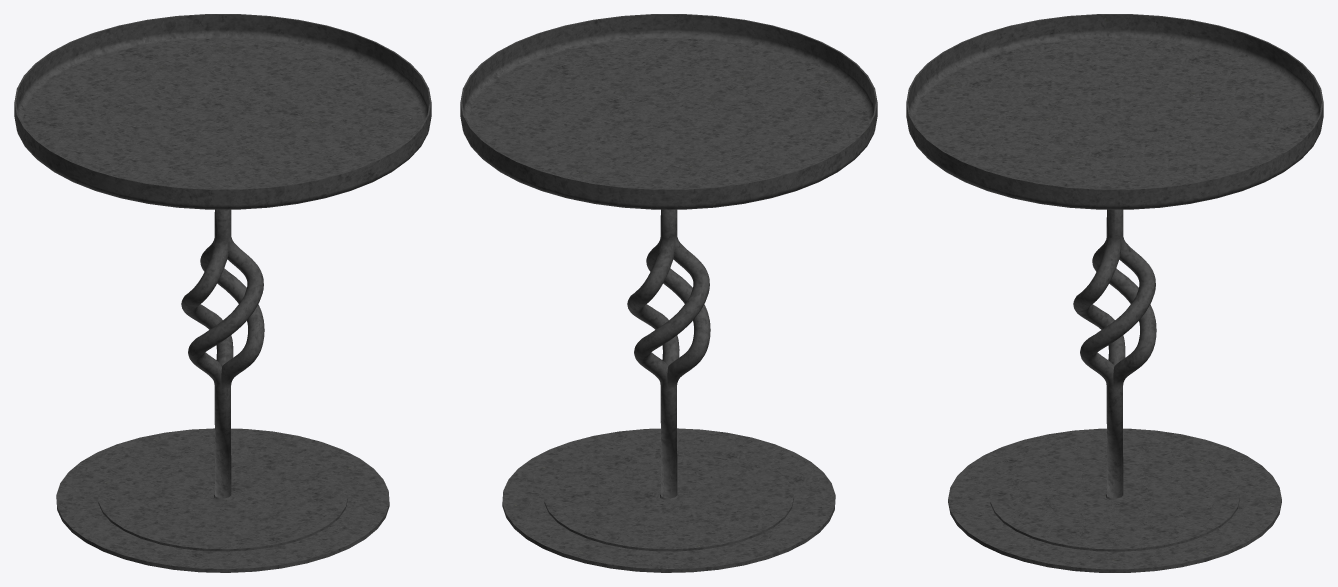
The model's file is helix_table-F5qTfHFF.glb.
3 renders of one model, left to right at view 1: azimuth 30°, elevation 25°; view 2: azimuth 150°, elevation 25°; view 3: azimuth 270°, elevation 25°, orthographic.
Visible parts, largest first — view 1: JoinedAsset; view 2: JoinedAsset; view 3: JoinedAsset.
Boxes of the visible parts, x1,y1,x2,y2 form: JoinedAsset: (14,14,431,572); JoinedAsset: (460,14,877,572); JoinedAsset: (906,14,1323,572).
Size of the model in its own units: 0.4986 by 0.53 by 0.5.
1 material, 1 textured.
